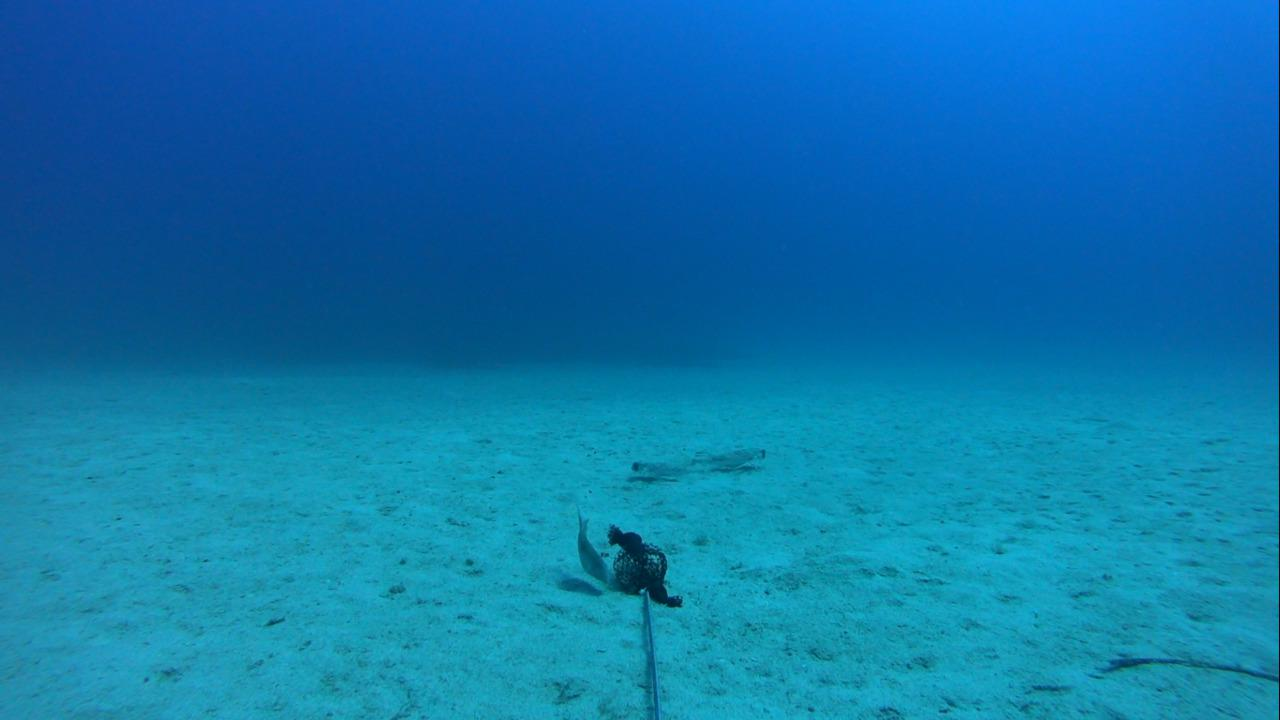dactylopterus: (614, 450, 703, 492), (684, 438, 774, 477)
raor: (565, 509, 609, 592)
